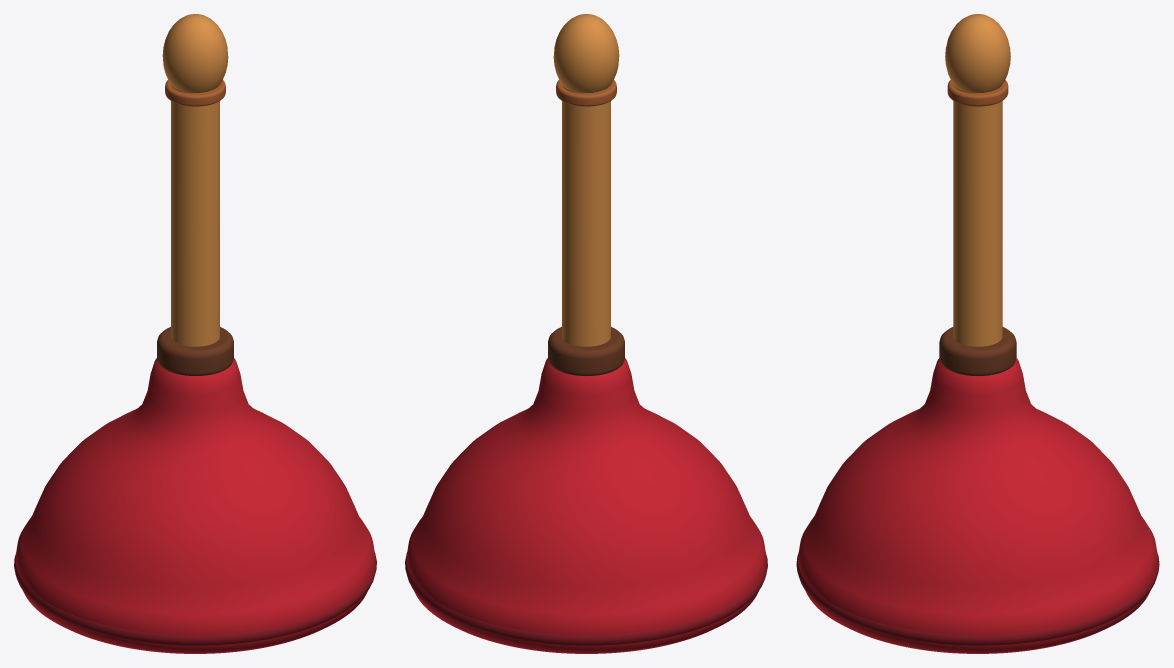
Rendered from plunger.glb.
3 renders of one model, left to right at view 1: azimuth 30°, elevation 25°; view 2: azimuth 150°, elevation 25°; view 3: azimuth 270°, elevation 25°, orthographic.
Parts seen in each view (by area): view 1: RubberCup, Handle; view 2: RubberCup, Handle; view 3: RubberCup, Handle.
Boxes of the visible parts, x1,y1,x2,y2 form: RubberCup: (14,358,376,653); Handle: (157,14,233,375); RubberCup: (405,358,767,653); Handle: (548,14,624,376); RubberCup: (796,358,1159,653); Handle: (939,14,1016,376).
Size of the model in its own units: 2.21 by 3.82 by 2.21.
Materials: 2 (2 with a texture image).
